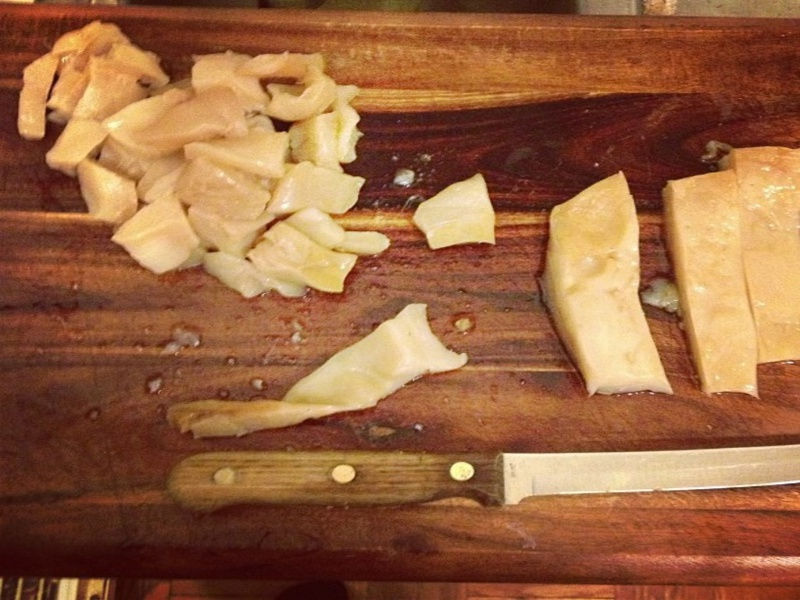knife: (164, 445, 800, 517)
